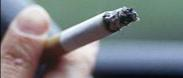Cigarette: (42, 6, 139, 62)
